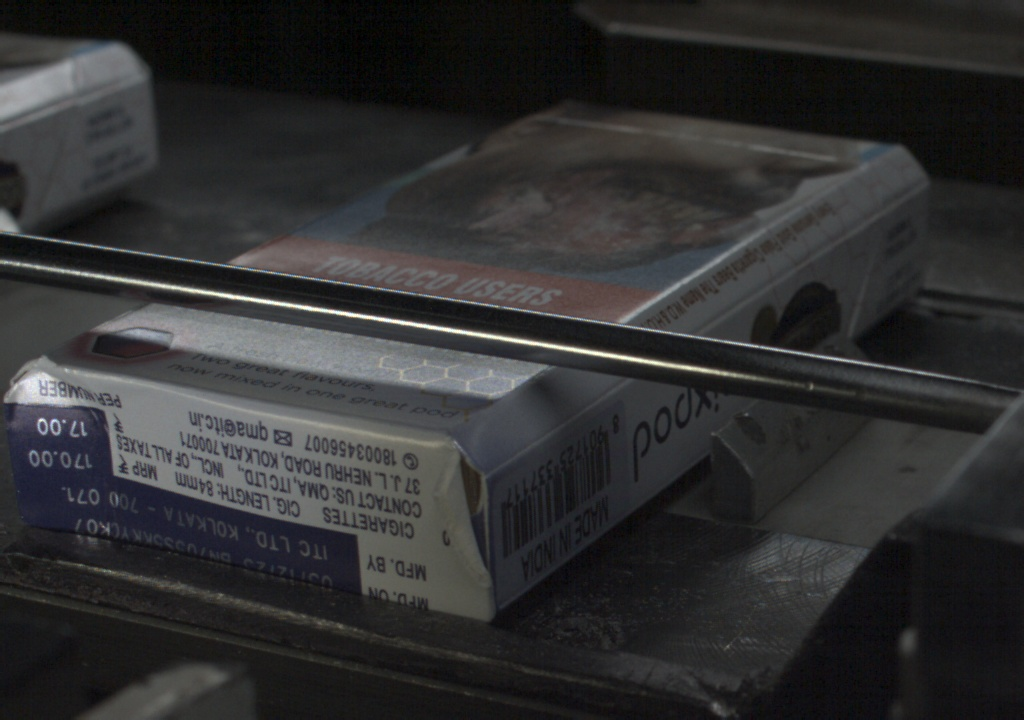g_lmiter: (785, 212, 880, 272), (698, 272, 785, 334), (490, 424, 558, 474), (557, 380, 627, 426)
g_miter: (885, 175, 926, 212)
ng_bottom: (2, 372, 124, 548), (427, 438, 496, 628)
ng_label: (17, 482, 363, 595)
price: (10, 412, 106, 480)
